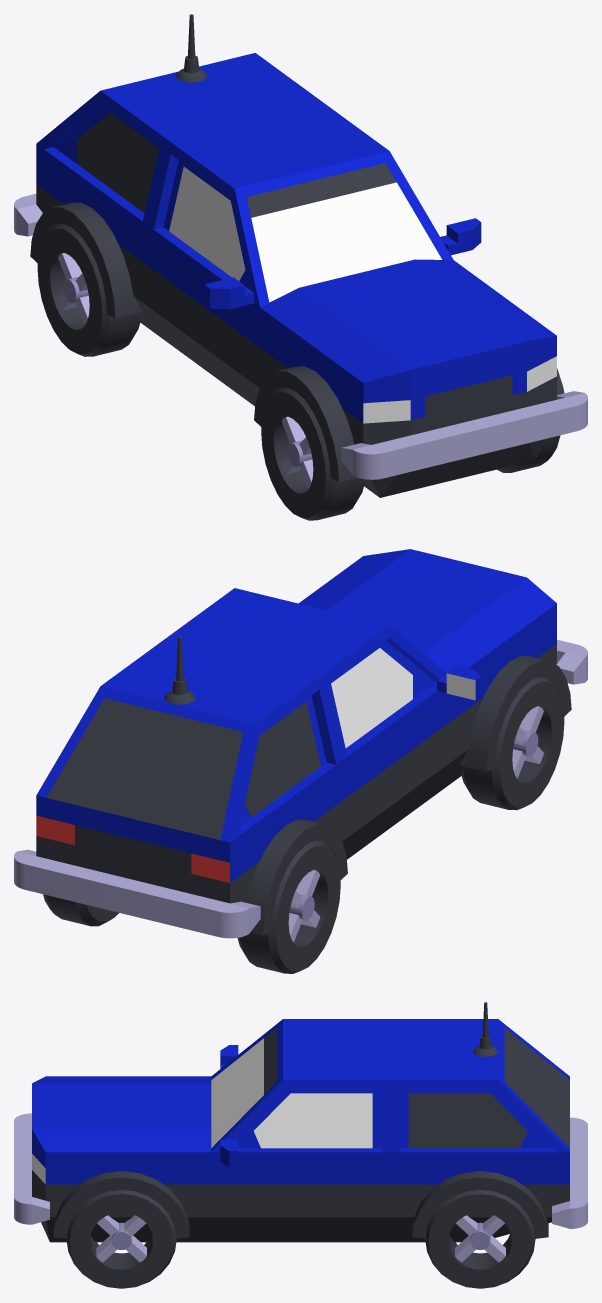
File: Blue_Small_Car.fbx
3 renders of one model, top to bottom at view 1: azimuth 30°, elevation 25°; view 2: azimuth 150°, elevation 25°; view 3: azimuth 270°, elevation 25°, orthographic. The views are drawn at different scales.
Visible parts, largest first — view 1: body_topStandard (×2), body_frontSUV, wheel_spokes (×3), body_standard, bumper (×2), wheel_coverStandard (×2), body_backSolid, detail_mirror (×2), detail_antenna; view 2: body_topStandard (×2), body_frontSUV, body_backSolid, wheel_spokes (×3), body_standard, bumper (×2), wheel_coverStandard (×2), detail_mirror, detail_antenna; view 3: body_topStandard (×2), body_frontSUV, body_standard, wheel_spokes (×2), body_backSolid, wheel_coverStandard (×2), bumper (×2), detail_antenna, detail_mirror.
Part boxes in pixels (x1,y1,x2,y2): body_topStandard (×2): (36, 53, 453, 307); body_frontSUV: (260, 259, 556, 497); wheel_spokes (×3): (37, 224, 560, 520); body_standard: (148, 226, 259, 405); bumper (×2): (14, 193, 587, 479); wheel_coverStandard (×2): (30, 202, 357, 482); body_backSolid: (36, 144, 166, 341); detail_mirror (×2): (204, 218, 481, 309); detail_antenna: (176, 14, 206, 82); body_topStandard (×2): (36, 588, 446, 842); body_frontSUV: (298, 549, 556, 795); body_backSolid: (36, 761, 341, 903); wheel_spokes (×3): (43, 677, 564, 973); body_standard: (342, 682, 453, 859); bumper (×2): (14, 639, 587, 938); wheel_coverStandard (×2): (246, 656, 571, 935); detail_mirror: (437, 665, 481, 700); detail_antenna: (164, 636, 195, 704); body_topStandard (×2): (211, 1019, 569, 1152); body_frontSUV: (32, 1076, 211, 1242); body_standard: (211, 1148, 390, 1242); wheel_spokes (×2): (66, 1190, 535, 1288); body_backSolid: (390, 1148, 569, 1242); wheel_coverStandard (×2): (53, 1171, 548, 1238); bumper (×2): (14, 1113, 587, 1228); detail_antenna: (473, 1002, 498, 1056); detail_mirror: (220, 1139, 238, 1167).
Size of the model in its own units: 14 by 15.08 by 32.
